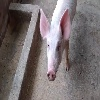heo: (35, 5, 74, 83)
